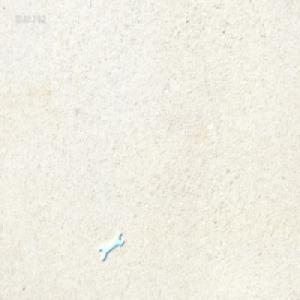Wrench: (99, 232, 123, 261)
